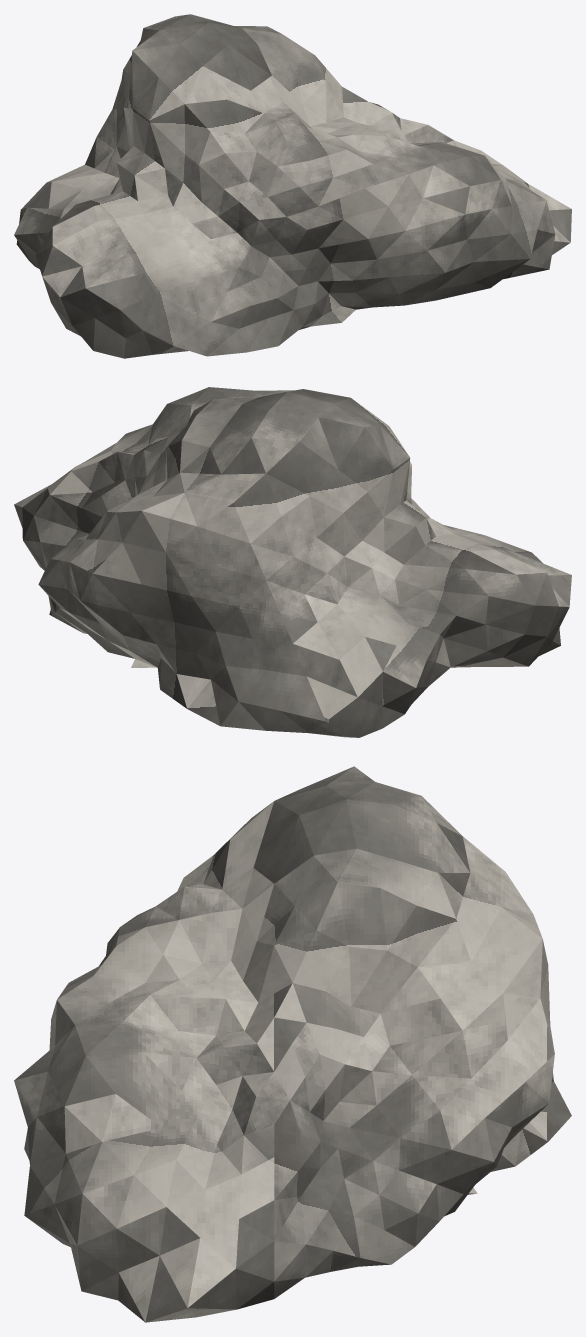
Rendered from terrain3_rock_0.glb.
The picture shows the model from 3 angles, top to bottom: view 1: azimuth 30°, elevation 25°; view 2: azimuth 150°, elevation 25°; view 3: azimuth 270°, elevation 25°; orthographic projection. The views are drawn at different scales.
Size of the model in its own units: 6.59 by 2.94 by 4.49.
1 material, 1 textured.
